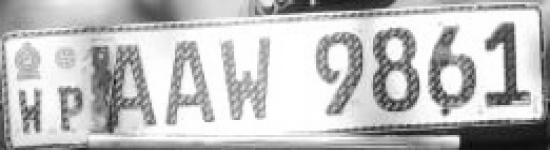1: (479, 14, 537, 114)
6: (426, 19, 480, 114)
8: (367, 20, 425, 117)
9: (309, 26, 365, 124)
A: (105, 41, 164, 134), (163, 38, 216, 131)
P: (55, 82, 90, 136)
W: (218, 35, 279, 128), (14, 86, 50, 138)
